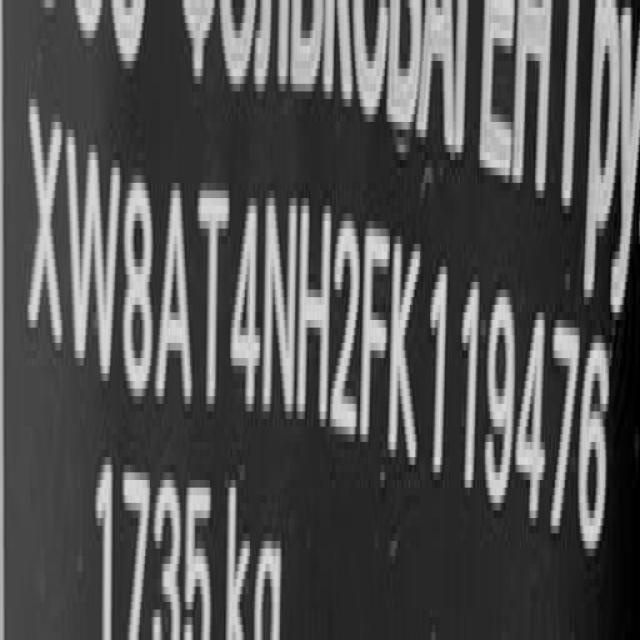1: (427, 255, 448, 493), (461, 278, 481, 505)
2: (332, 210, 362, 448)
4: (516, 304, 548, 535), (232, 184, 261, 420)
6: (582, 336, 611, 559)
7: (551, 320, 581, 550)
8: (124, 170, 156, 404)
9: (485, 286, 515, 516)
A: (156, 177, 196, 412)
F: (359, 211, 389, 473)
H: (296, 186, 332, 439)
K: (381, 217, 424, 488)
N: (261, 183, 299, 420)
T: (194, 171, 230, 424)
W: (68, 122, 122, 390)
X: (29, 102, 65, 371)
